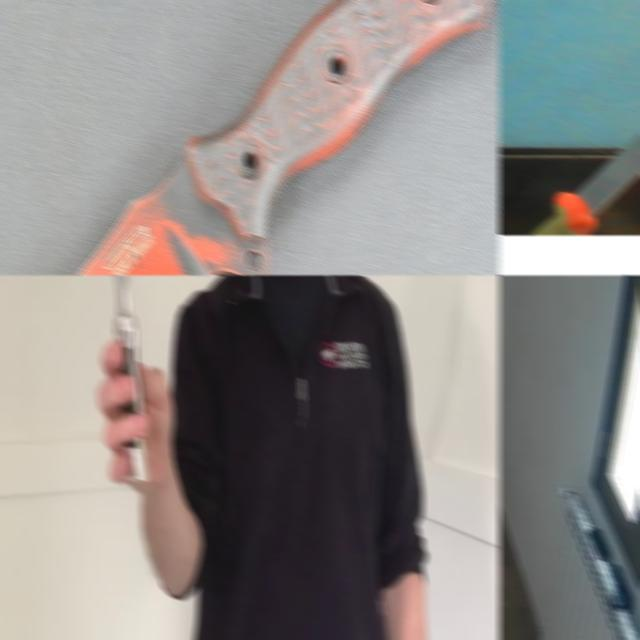Knife: (533, 134, 640, 236)
Knife_Handle: (95, 275, 175, 492)
